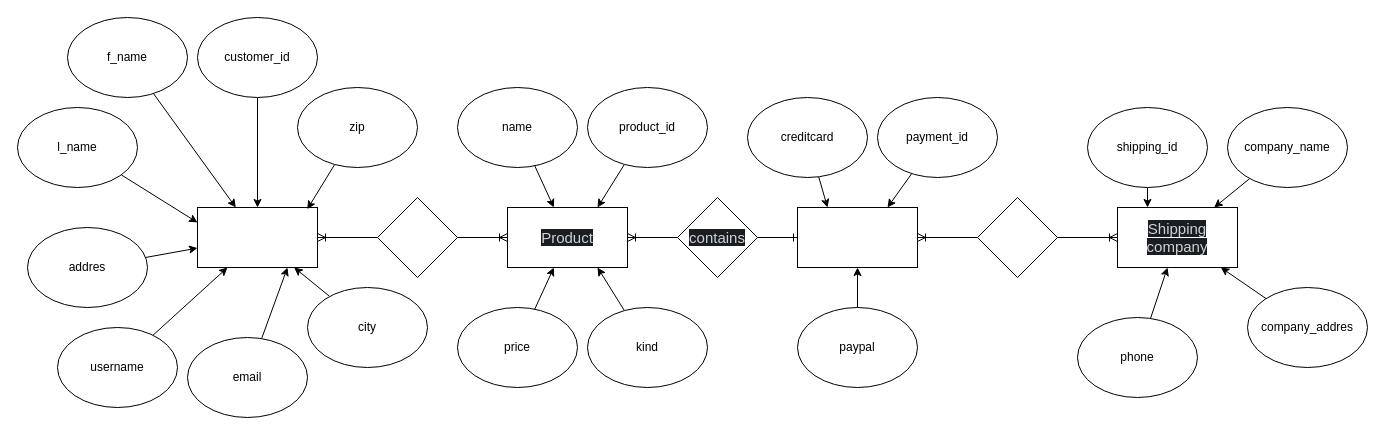
This 1385x435 diagram has some shape labels left out. The centre of each missing label's shape, as x and y in pixels:
"Customer" belongs at pixel 257 237.
"order" belongs at pixel 417 237.
"Payment" belongs at pixel 857 237.
"produces" belongs at pixel 1017 237.
